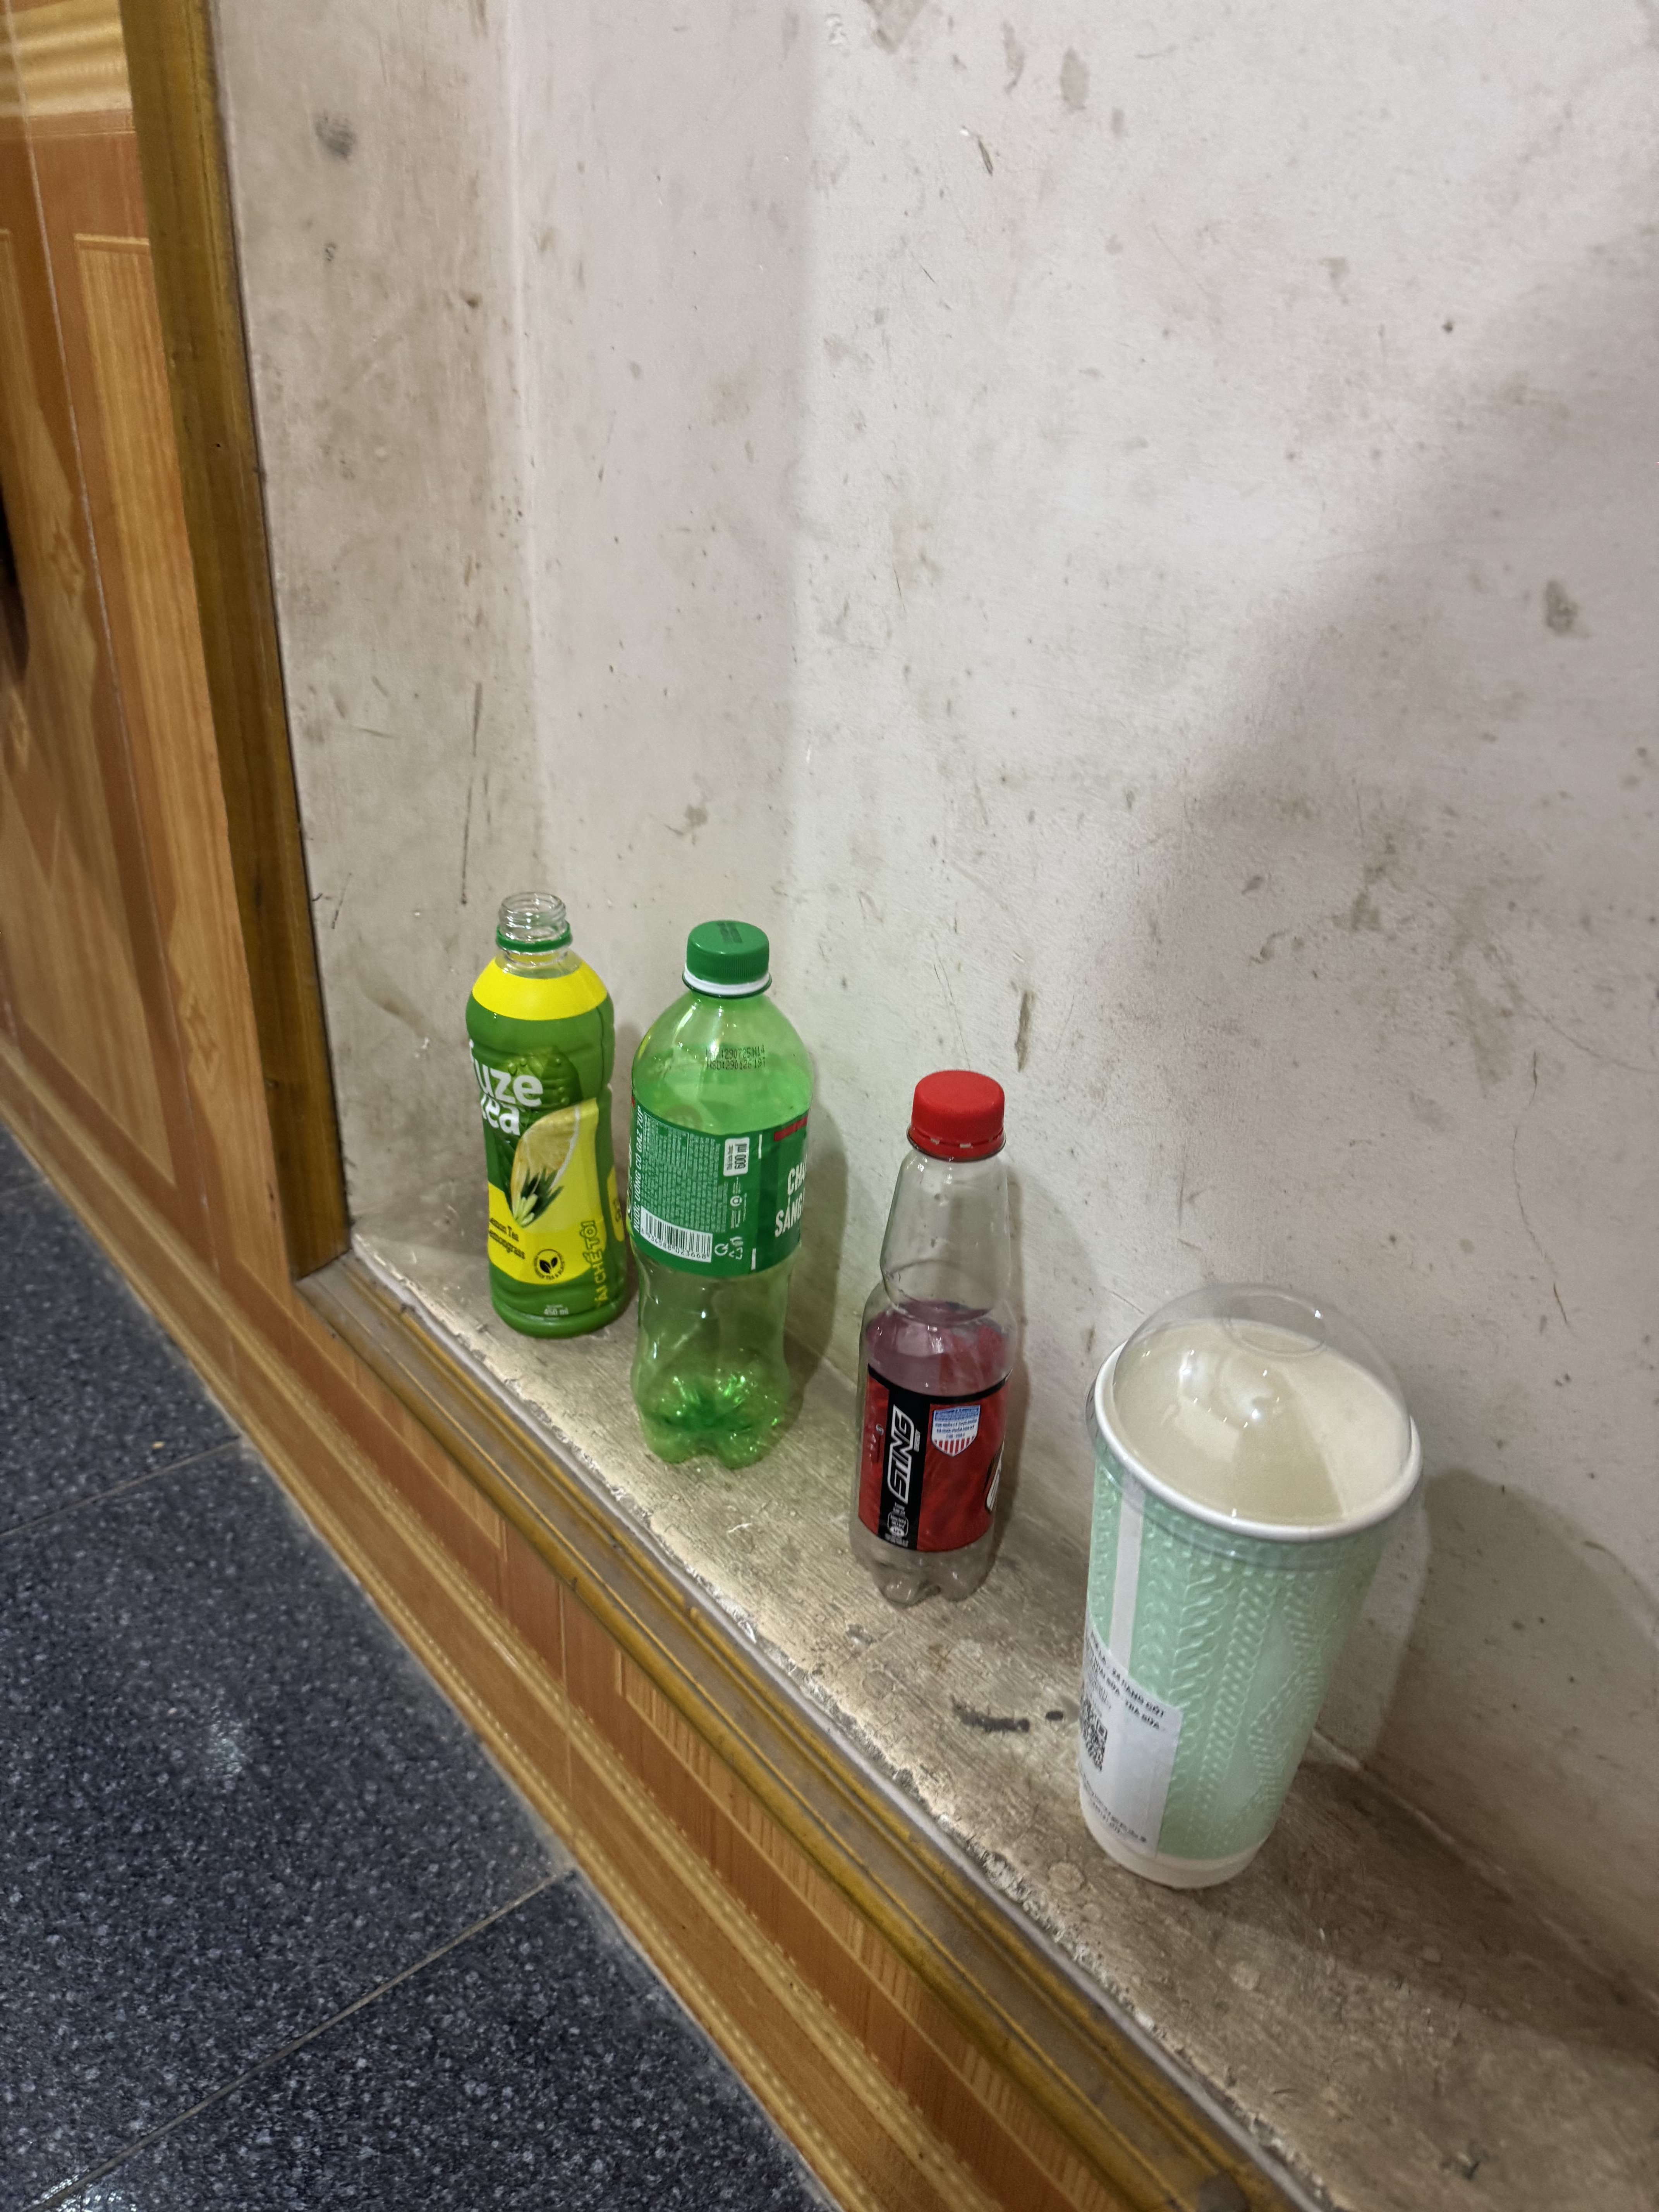2: (1042, 1268, 1453, 1914)
bottle: (594, 902, 829, 1500), (828, 1061, 1040, 1622), (455, 874, 650, 1350)
